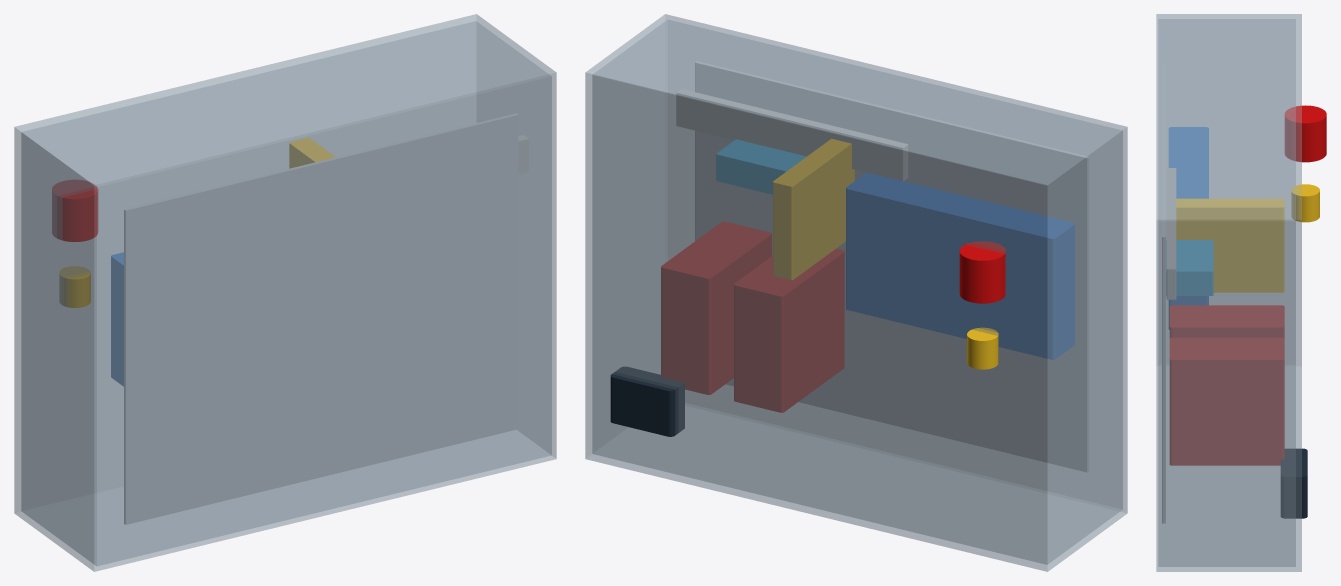
Rendered from HR30_external_tether_panel_candidate.glb.
3 renders of one model, left to right at view 1: azimuth 30°, elevation 25°; view 2: azimuth 150°, elevation 25°; view 3: azimuth 270°, elevation 25°, orthographic. The views are drawn at different scales.
Visible parts, largest first — view 1: ENCLOSURE_1418N4C6, BACK_PANEL_432x330, S0_ESTOP_FAMILY, PS1_RSP-500-12, S1_RESET, SR1_PNOZ_s4_750104; view 2: ENCLOSURE_1418N4C6, BACK_PANEL_432x330, PS1_RSP-500-12, K1_LC1D40ABD, K2_LC1D40ABD, SR1_PNOZ_s4_750104, DIN_RAIL, XT1A_SBS75G, PS2_SD-15A-24, S0_ESTOP_FAMILY, S1_RESET; view 3: ENCLOSURE_1418N4C6, K2_LC1D40ABD, SR1_PNOZ_s4_750104, K1_LC1D40ABD, PS1_RSP-500-12, S0_ESTOP_FAMILY, PS2_SD-15A-24, XT1A_SBS75G, BACK_PANEL_432x330, DIN_RAIL, S1_RESET.
Part boxes in pixels (x1,y1,x2,y2): ENCLOSURE_1418N4C6: [14, 14, 556, 571]; BACK_PANEL_432x330: [124, 113, 517, 524]; S0_ESTOP_FAMILY: [52, 180, 97, 241]; PS1_RSP-500-12: [111, 252, 123, 386]; S1_RESET: [60, 267, 90, 307]; SR1_PNOZ_s4_750104: [289, 138, 334, 168]; ENCLOSURE_1418N4C6: [585, 14, 1127, 571]; BACK_PANEL_432x330: [695, 61, 1088, 472]; PS1_RSP-500-12: [846, 173, 1074, 359]; K1_LC1D40ABD: [734, 249, 844, 412]; K2_LC1D40ABD: [661, 221, 771, 394]; SR1_PNOZ_s4_750104: [773, 139, 854, 279]; DIN_RAIL: [676, 89, 907, 180]; XT1A_SBS75G: [610, 367, 684, 436]; PS2_SD-15A-24: [716, 139, 806, 194]; S0_ESTOP_FAMILY: [959, 241, 1005, 303]; S1_RESET: [967, 328, 998, 369]; ENCLOSURE_1418N4C6: [1156, 14, 1301, 571]; K2_LC1D40ABD: [1170, 338, 1284, 465]; SR1_PNOZ_s4_750104: [1176, 199, 1284, 292]; K1_LC1D40ABD: [1170, 305, 1284, 337]; PS1_RSP-500-12: [1169, 127, 1208, 329]; S0_ESTOP_FAMILY: [1285, 105, 1326, 162]; PS2_SD-15A-24: [1166, 240, 1213, 295]; XT1A_SBS75G: [1281, 448, 1307, 518]; BACK_PANEL_432x330: [1162, 62, 1165, 523]; DIN_RAIL: [1167, 168, 1175, 299]; S1_RESET: [1291, 184, 1319, 222].
Bounding box in the file's own units: 508 × 406 × 178.
